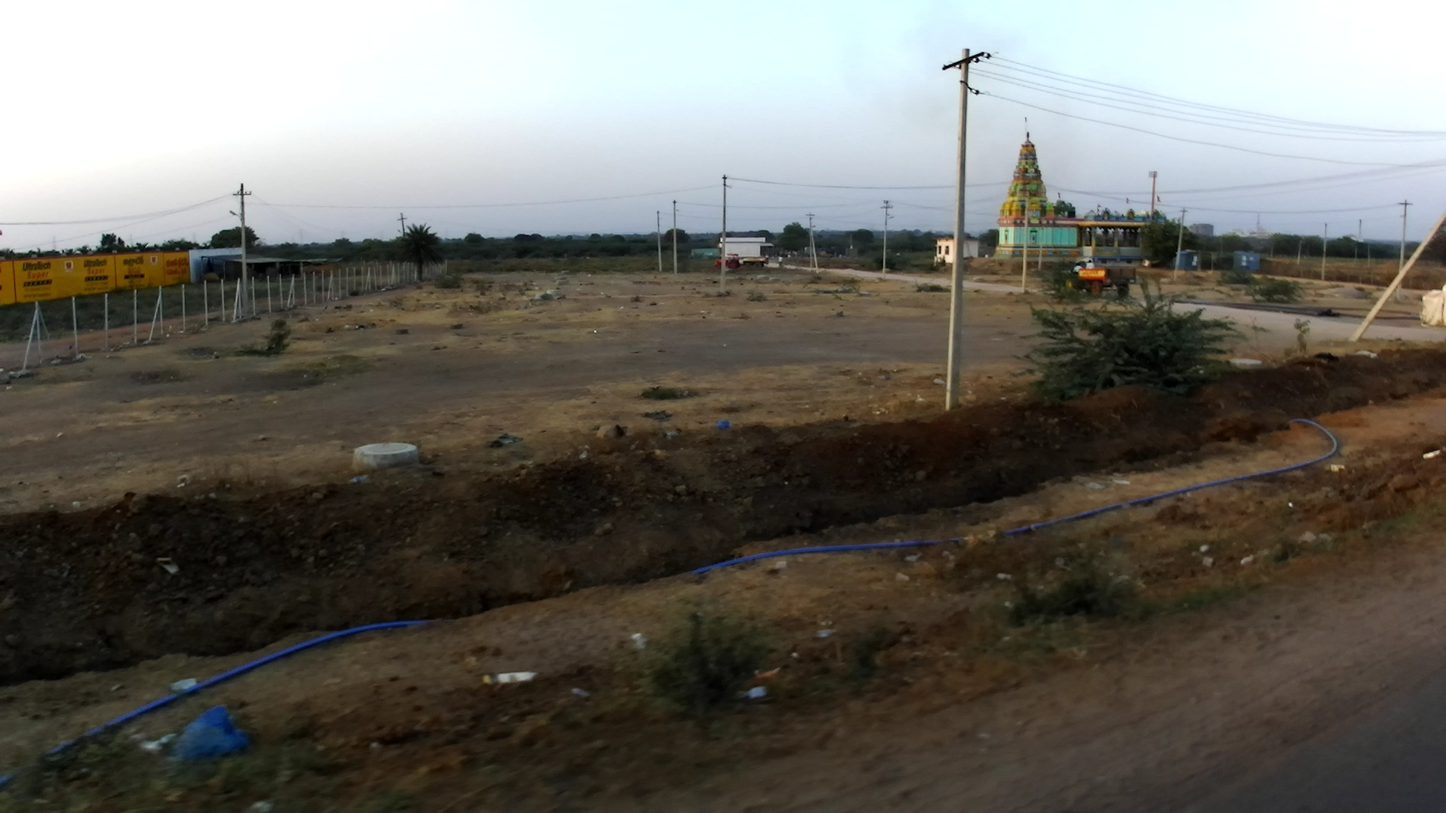person: (777, 254, 783, 268)
rider: (1072, 262, 1083, 273), (1085, 259, 1094, 269)
vehicle fallback: (1056, 266, 1136, 299), (712, 254, 768, 271)
